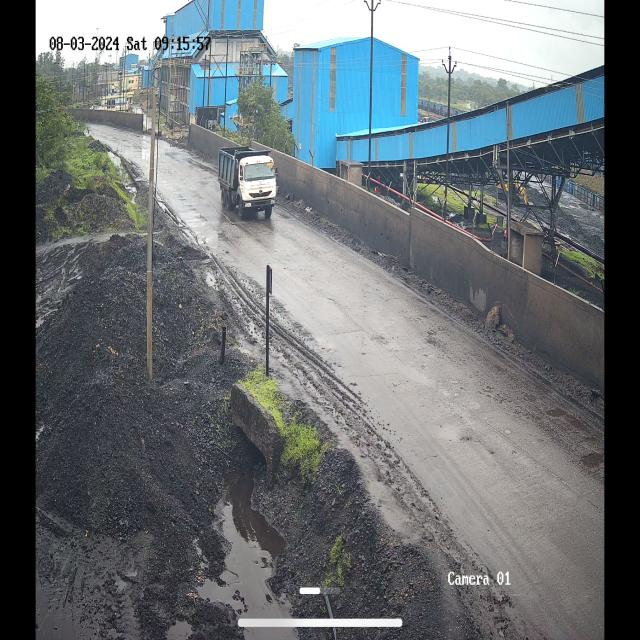dump_truck: (220, 140, 274, 213)
